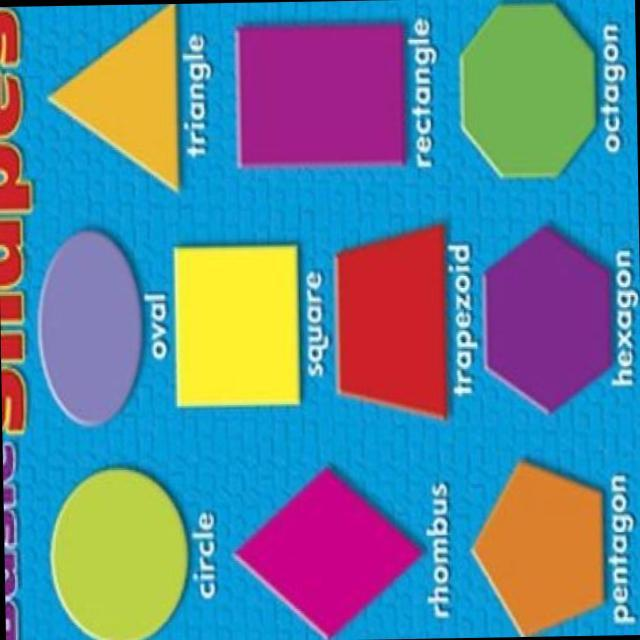circle: (158, 218, 328, 433), (20, 210, 164, 450), (43, 445, 209, 640)
square: (218, 0, 449, 194)
triangle: (16, 0, 226, 208)
